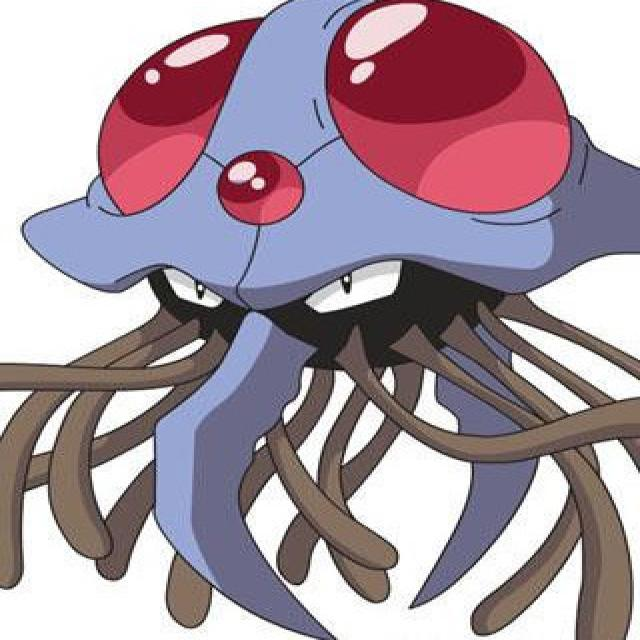Tentacruel: (68, 0, 611, 483)
